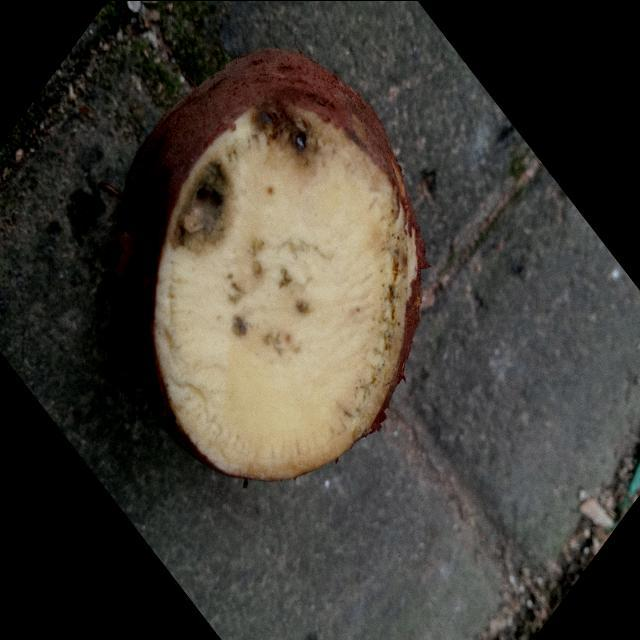Sick Sweet Potato_Tuber Rot: (154, 100, 425, 478)
